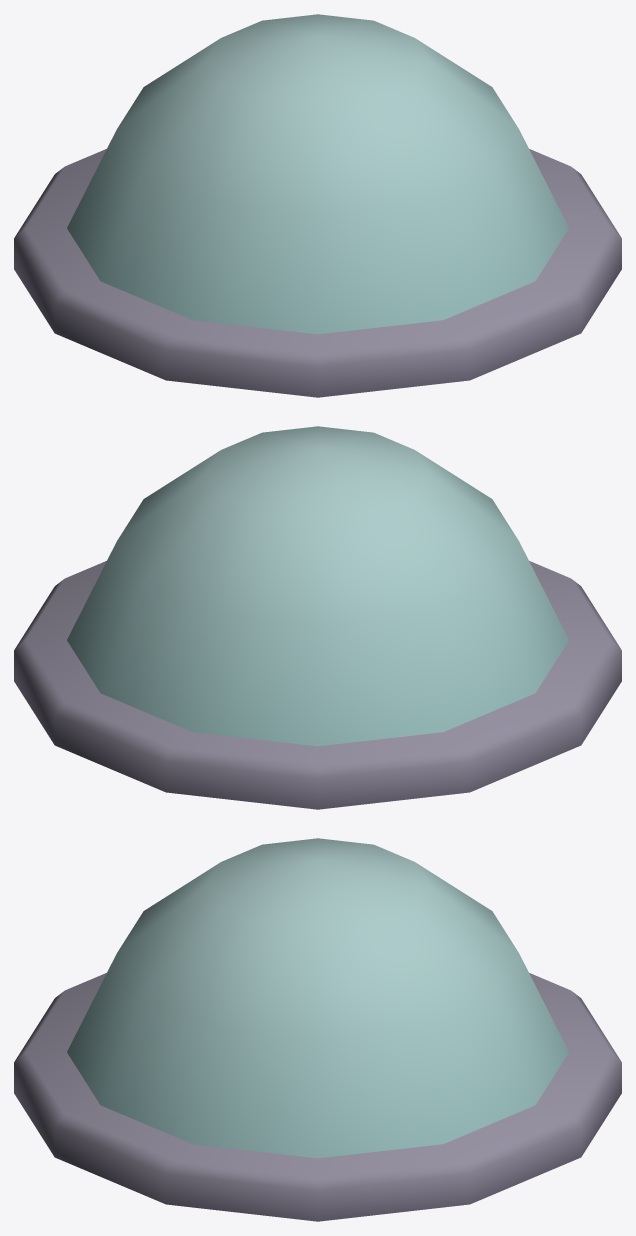
File: fitness-bosu-ball.glb
The picture shows the model from 3 angles, top to bottom: view 1: azimuth 30°, elevation 25°; view 2: azimuth 150°, elevation 25°; view 3: azimuth 270°, elevation 25°; orthographic projection.
Visible parts, largest first — view 1: fitness-bosu-ball; view 2: fitness-bosu-ball; view 3: fitness-bosu-ball.
Boxes of the visible parts, left/top/right/bottom form: fitness-bosu-ball: left=14, top=14, right=621, bottom=397; fitness-bosu-ball: left=14, top=426, right=621, bottom=809; fitness-bosu-ball: left=14, top=838, right=621, bottom=1221.
Bounding box in the file's own units: 0.5376 × 0.2264 × 0.5376.
